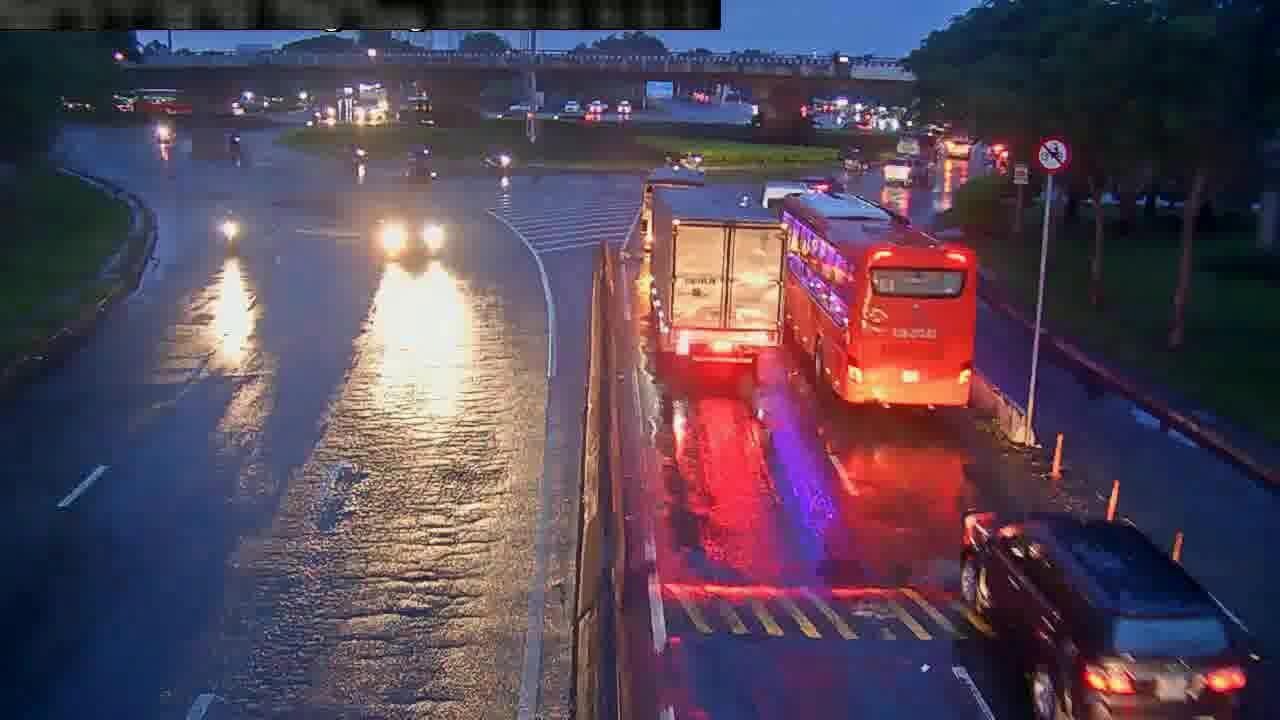14: (780, 193, 972, 411)
8: (649, 192, 784, 379)
container: (957, 510, 1245, 716)
motorbike: (220, 206, 245, 250)
